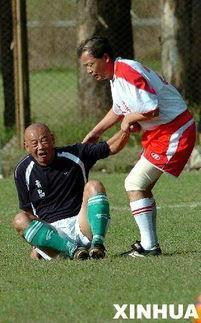Fall-Detected: (7, 109, 129, 267)
